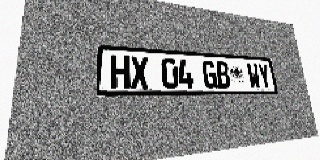0: (161, 58, 179, 89)
4: (177, 59, 194, 88)
B: (215, 61, 231, 88)
G: (201, 60, 218, 88)
H: (111, 55, 130, 89)
W: (246, 63, 261, 88)
X: (130, 56, 149, 89)
Y: (257, 63, 272, 88)
